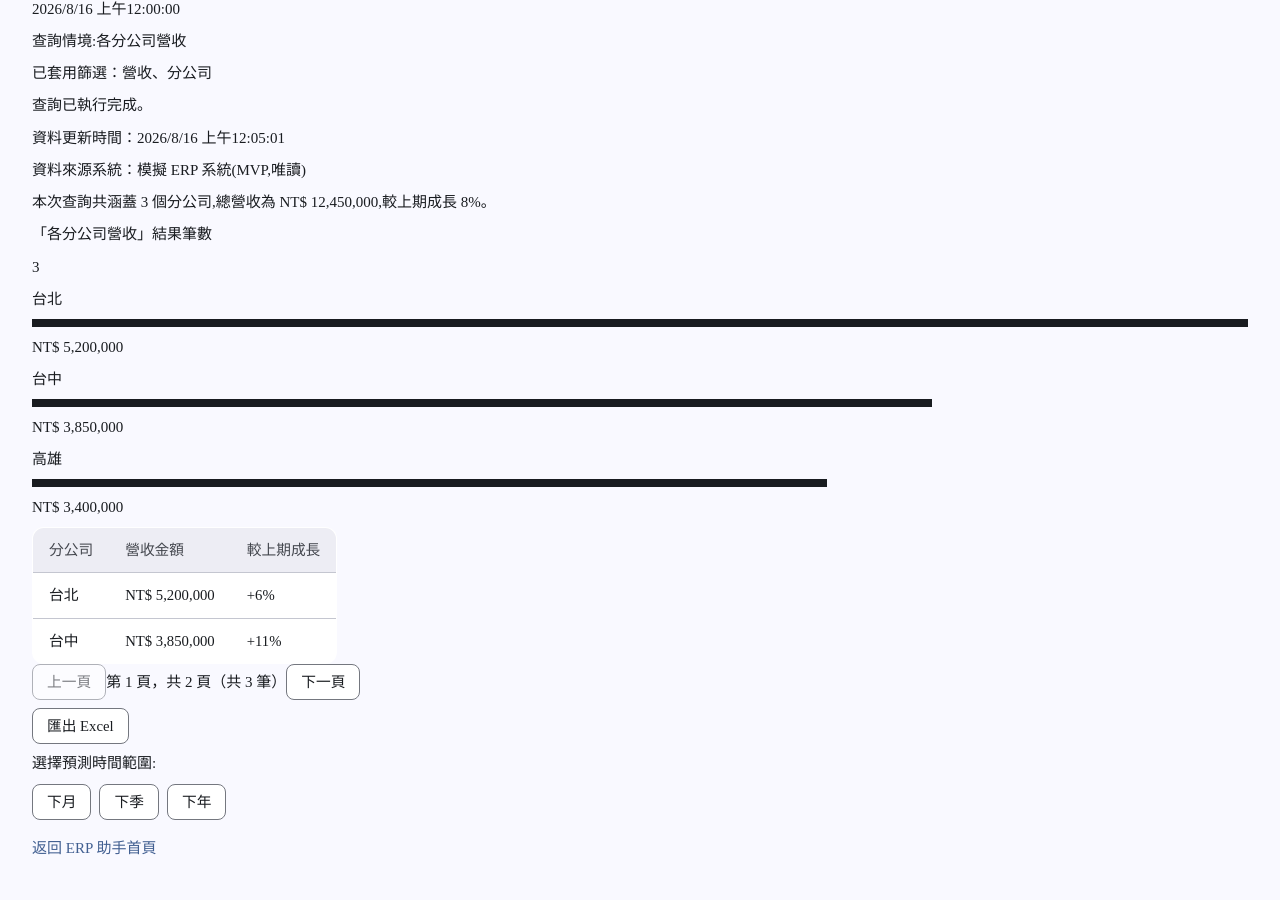
ErpQueryDetail prediction disclaimer (E09-S020) › shows the prediction disclaimer once a horizon is selected, alongside the prediction result
The image size is (1280, 900).
(page scrolled)
Click the button "下季": (129, 802) [100,784,159,820]
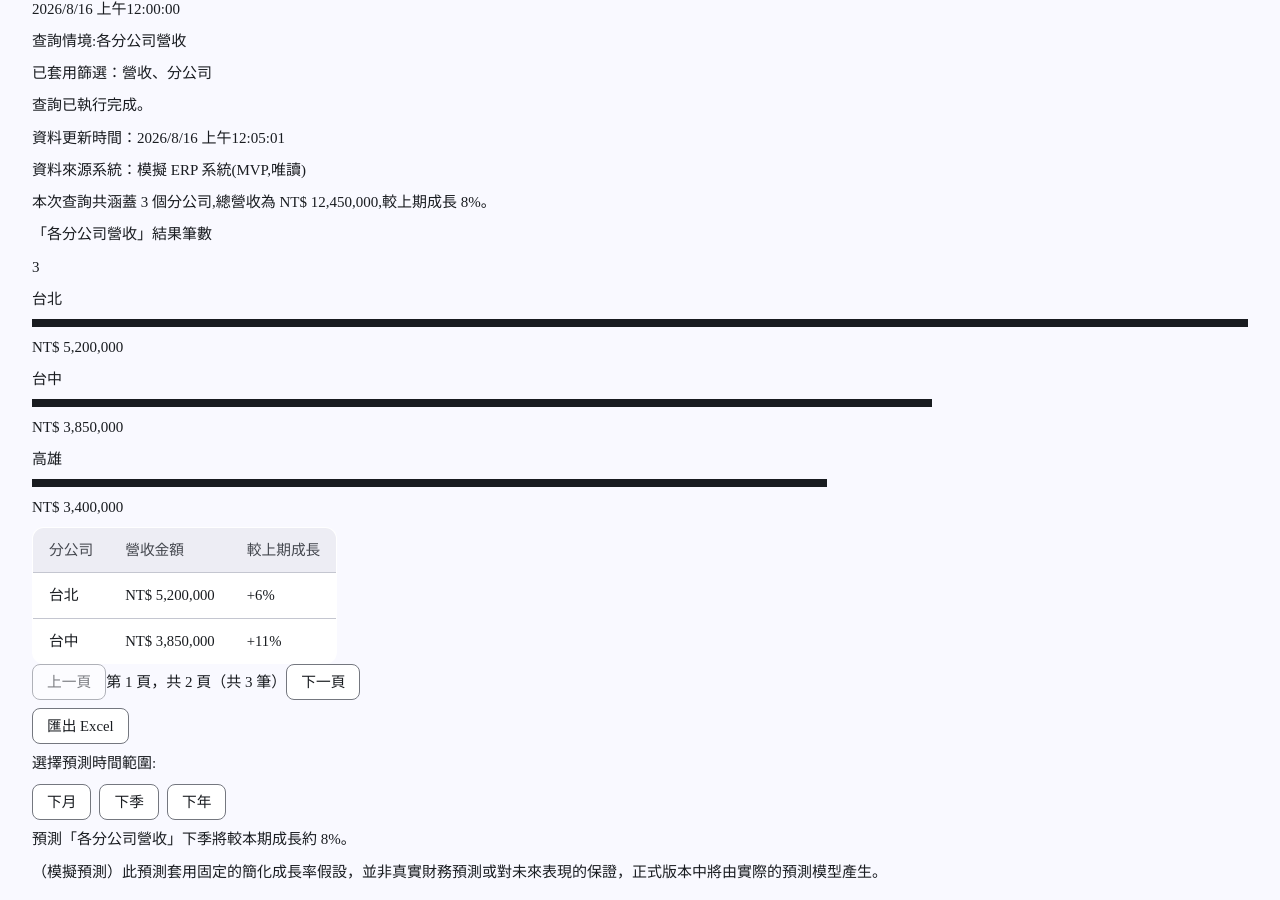
Result: the text "（模擬預測）此預測套用固定的簡化成長率假設，並非真實財務預測或對未來表現的保證，正式版本中將由實際的預測模型產生。" is shown at [32,864,887,880]
